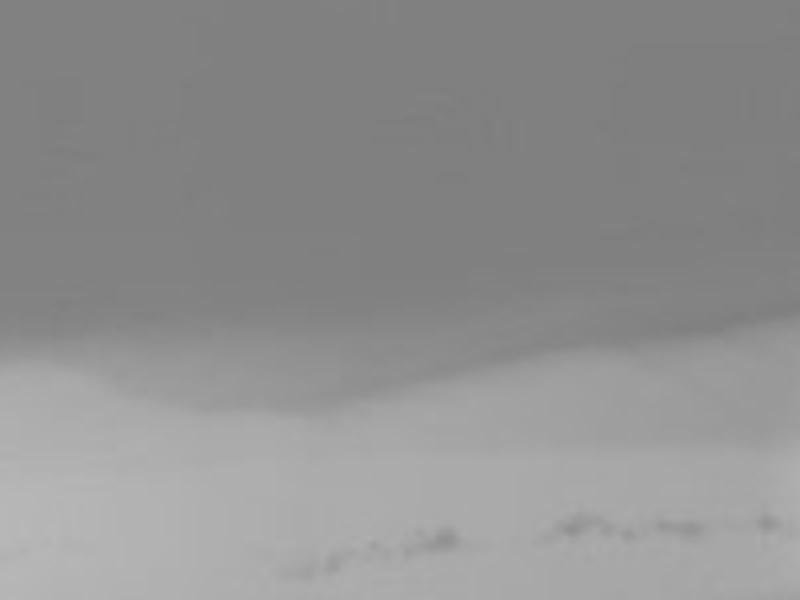defect: (402, 524, 458, 559), (556, 512, 596, 536), (323, 548, 353, 572), (530, 531, 557, 554), (288, 561, 319, 580), (674, 521, 700, 541), (754, 513, 777, 534), (656, 514, 675, 535), (599, 519, 616, 537), (622, 527, 639, 542), (368, 539, 378, 552)
